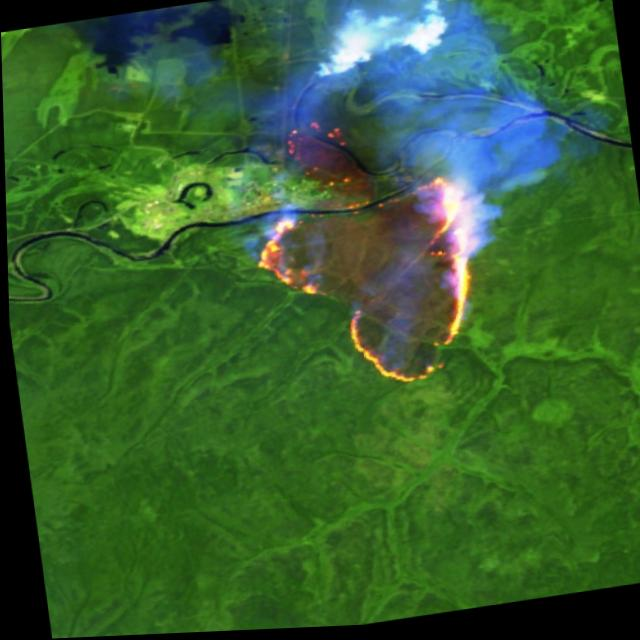fire: (231, 98, 493, 412)
